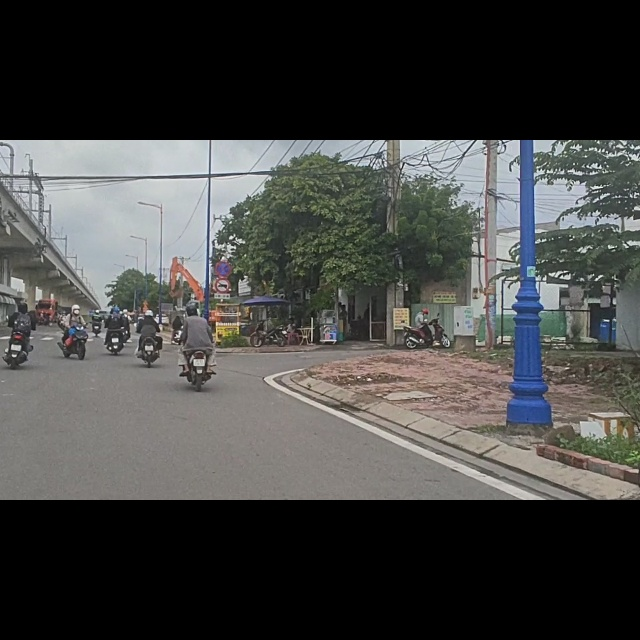bien_nguy_hiem: (215, 215, 232, 243), (215, 245, 231, 273)
